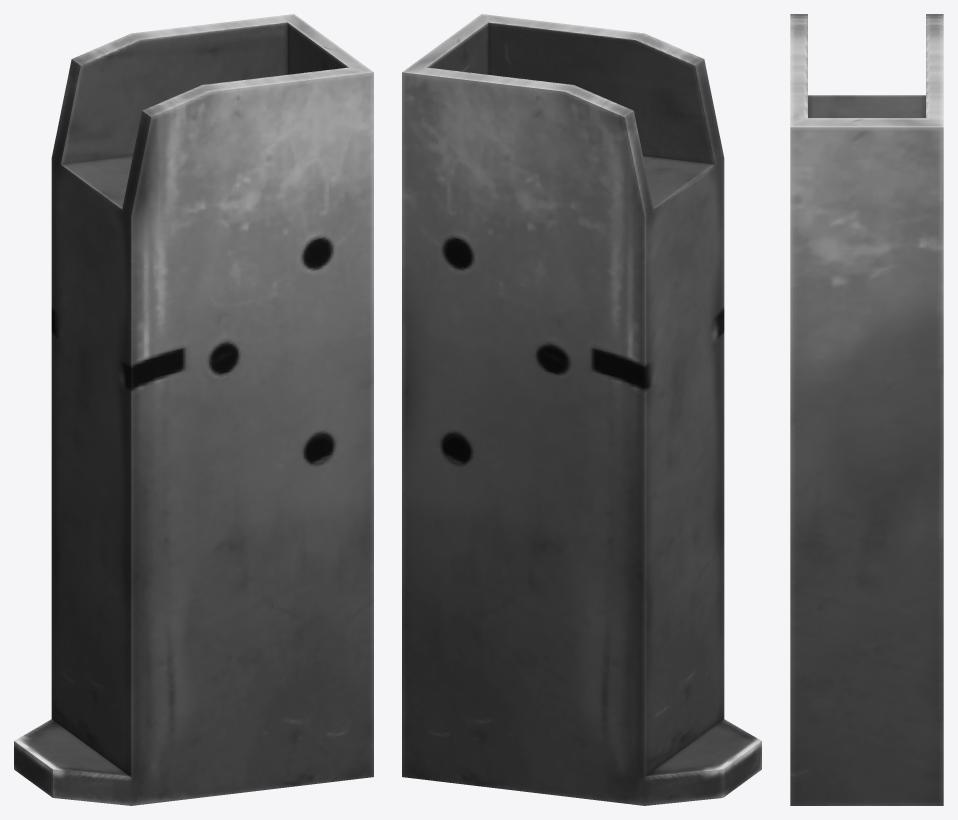
Rendered from SM_PRP_Pistols_Colt_Mag_01_A.fbx.
The picture shows the model from 3 angles, left to right: view 1: azimuth 30°, elevation 25°; view 2: azimuth 150°, elevation 25°; view 3: azimuth 270°, elevation 25°; orthographic projection. The views are drawn at different scales.
Visible parts, largest first — view 1: SM_PRP_Pistols_Colt_Mag_01_A; view 2: SM_PRP_Pistols_Colt_Mag_01_A; view 3: SM_PRP_Pistols_Colt_Mag_01_A.
Part boxes in pixels (<box>): SM_PRP_Pistols_Colt_Mag_01_A: <box>14,14,373,805</box>; SM_PRP_Pistols_Colt_Mag_01_A: <box>402,14,761,805</box>; SM_PRP_Pistols_Colt_Mag_01_A: <box>790,14,943,805</box>.
Size of the model in its own units: 4.57 by 10.52 by 2.1.
